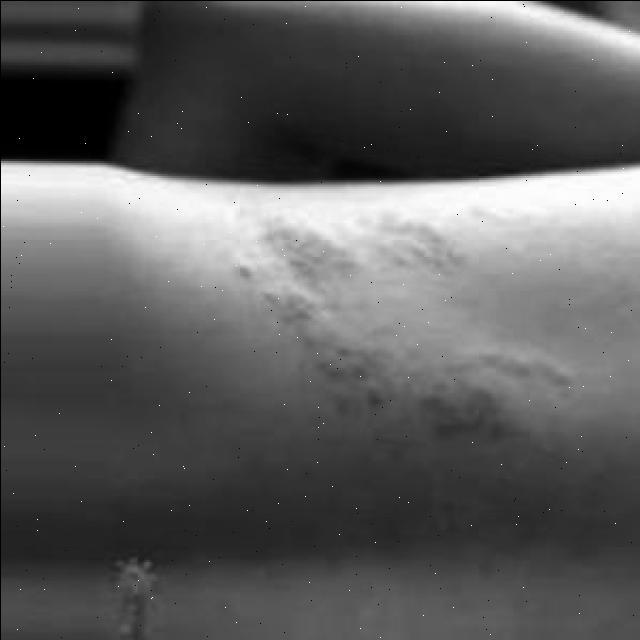Shingles: (225, 208, 562, 440)
